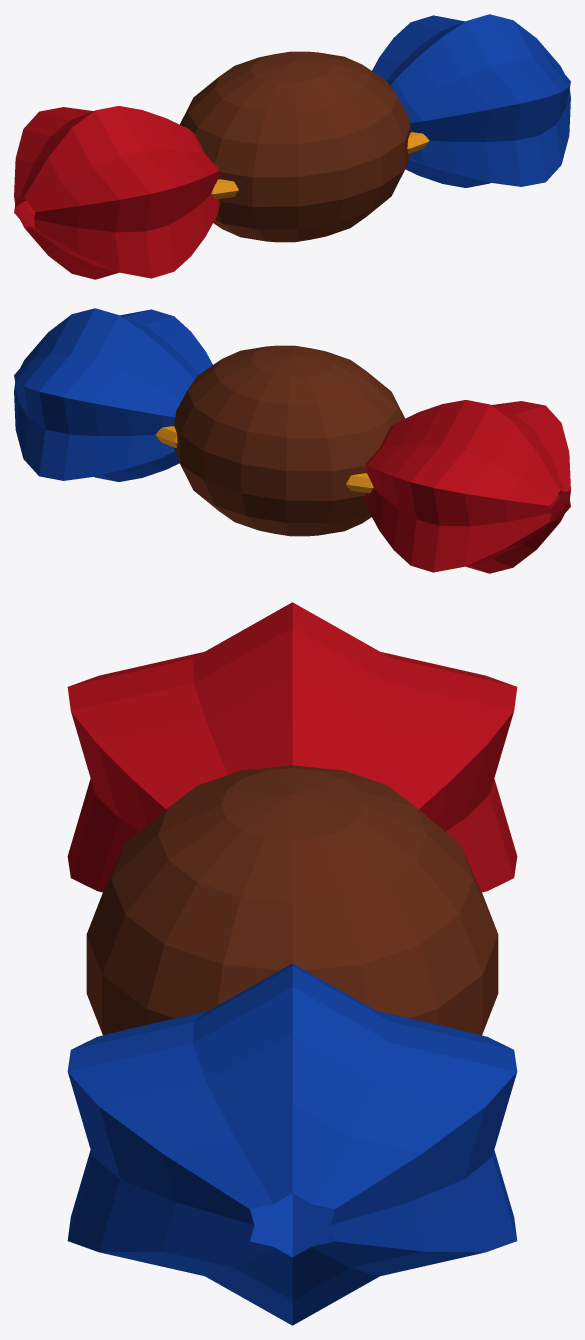
Rendered from BonBon_Wrapped.obj.
The picture shows the model from 3 angles, top to bottom: view 1: azimuth 30°, elevation 25°; view 2: azimuth 150°, elevation 25°; view 3: azimuth 270°, elevation 25°; orthographic projection. The views are drawn at different scales.
Visible parts, largest first — view 1: CandyCenter, WrapperWing_Left, WrapperWing_Right, TwistTie; view 2: CandyCenter, WrapperWing_Left, WrapperWing_Right, TwistTie; view 3: WrapperWing_Right, CandyCenter, WrapperWing_Left.
Boxes of the visible parts, x1,y1,x2,y2 form: CandyCenter: (180, 51, 410, 242); WrapperWing_Left: (14, 106, 219, 279); WrapperWing_Right: (372, 14, 570, 187); TwistTie: (211, 132, 429, 199); CandyCenter: (174, 345, 404, 536); WrapperWing_Left: (365, 400, 570, 573); WrapperWing_Right: (14, 308, 212, 481); TwistTie: (155, 426, 373, 493); WrapperWing_Right: (67, 963, 517, 1325); CandyCenter: (86, 765, 498, 1035); WrapperWing_Left: (67, 602, 517, 892).
Size of the model in its own units: 2.84 by 0.86 by 1.03.
